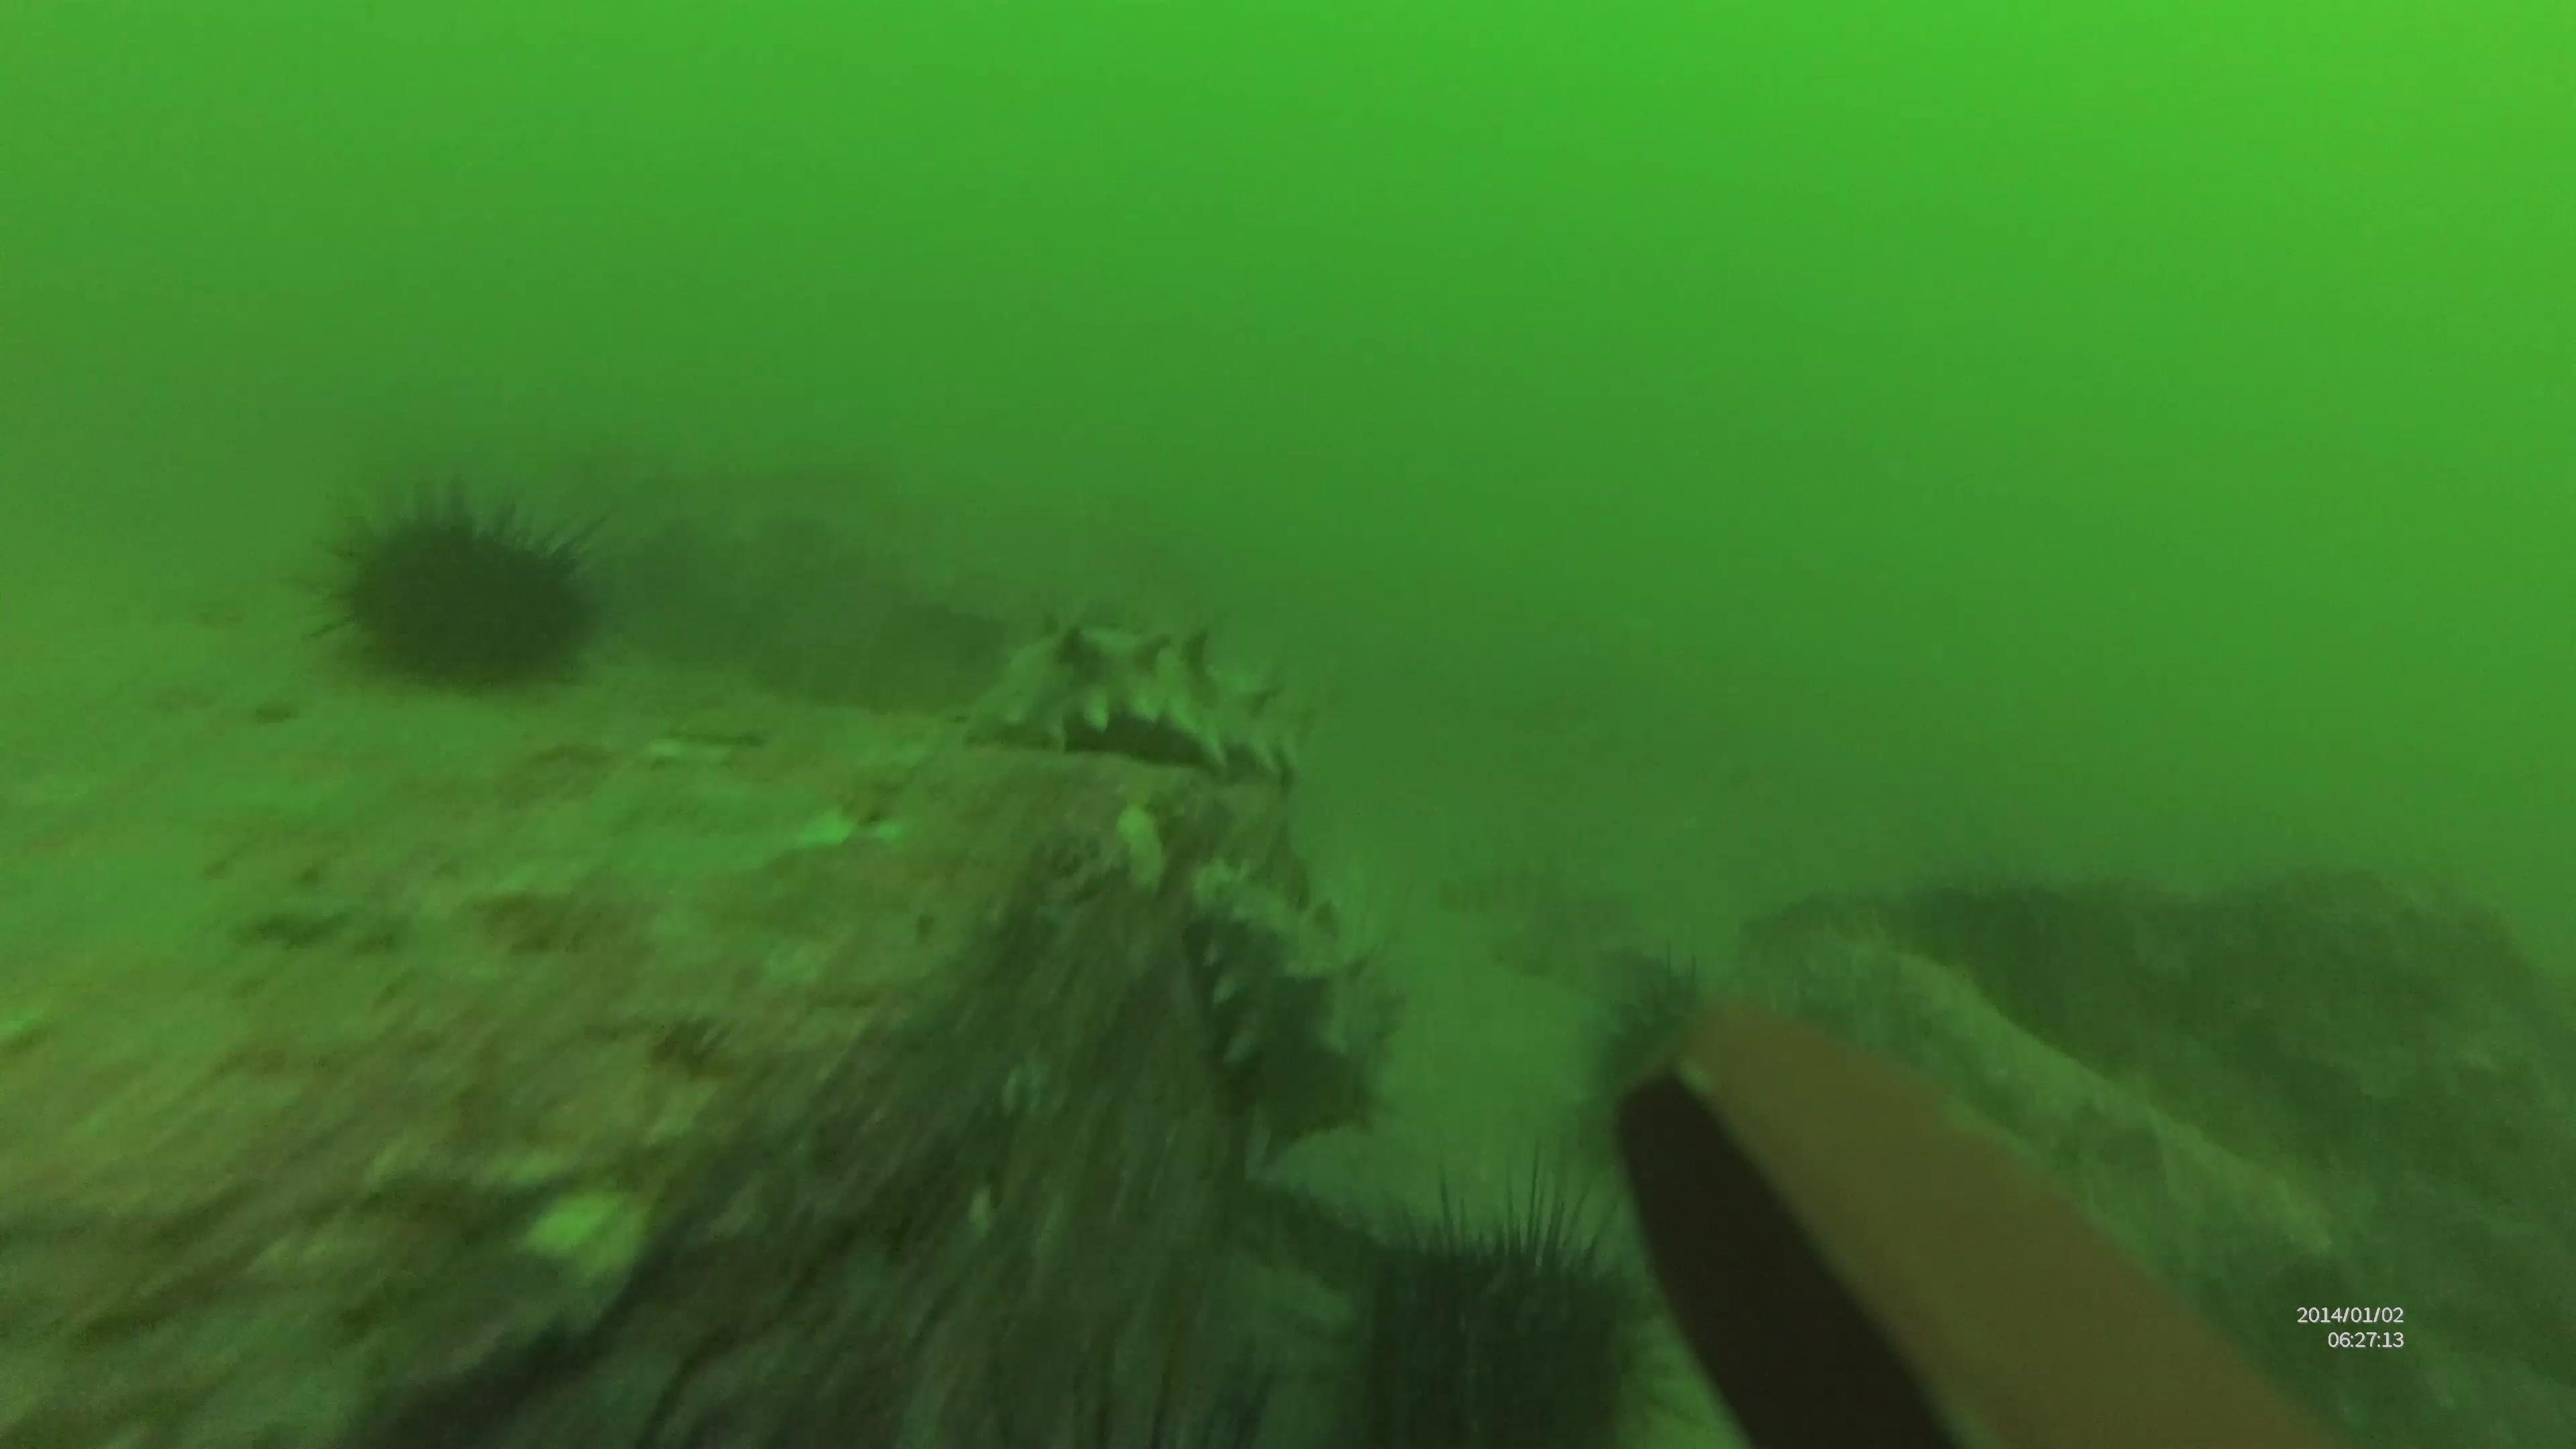echinus: (1304, 1157, 1688, 1445), (306, 474, 616, 702), (1575, 955, 1759, 1180)
holothurian: (1175, 849, 1405, 1145), (954, 607, 1318, 787)
